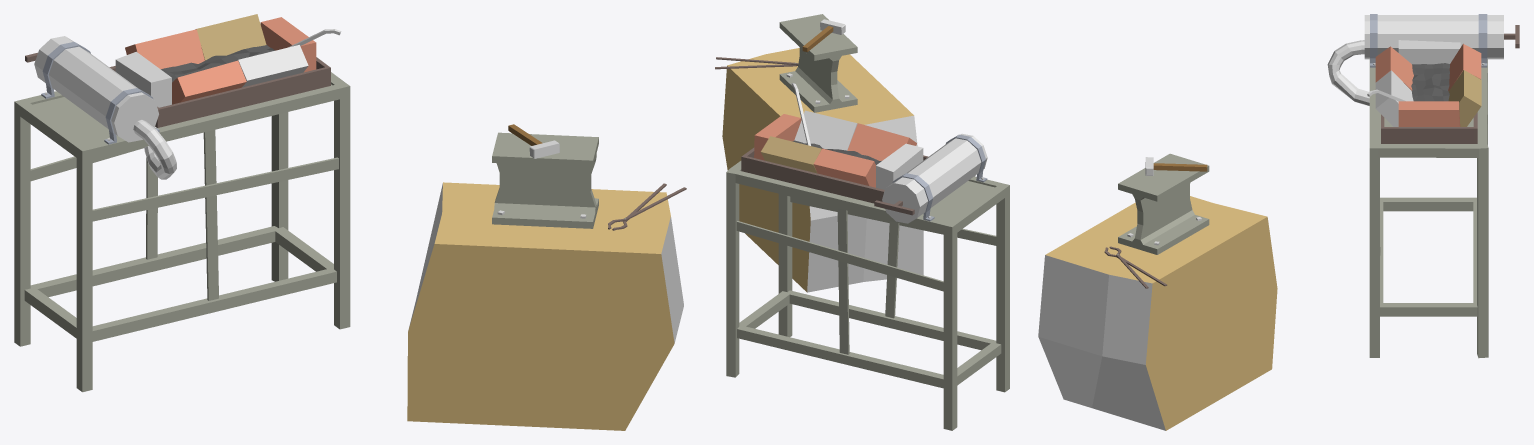
File: DeskForge1.fbx
The picture shows the model from 3 angles, left to right: view 1: azimuth 30°, elevation 25°; view 2: azimuth 150°, elevation 25°; view 3: azimuth 270°, elevation 25°; orthographic projection. The views are drawn at different scales.
Parts seen in each view (by area): view 1: Forge; view 2: Forge; view 3: Forge.
Part boxes in pixels (x1,y1,x2,y2): Forge: (14, 14, 686, 430); Forge: (715, 14, 1009, 430); Forge: (1038, 14, 1519, 430).
Size of the model in its own units: 286 by 172 by 288.
